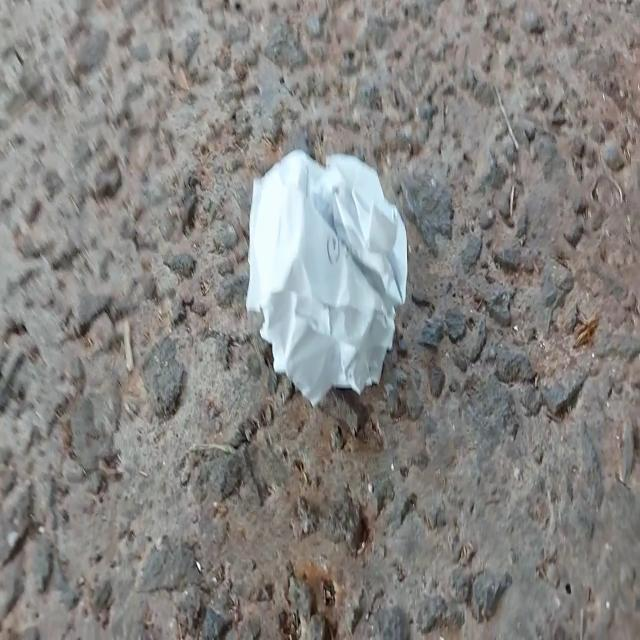Paper: (231, 125, 419, 412)
